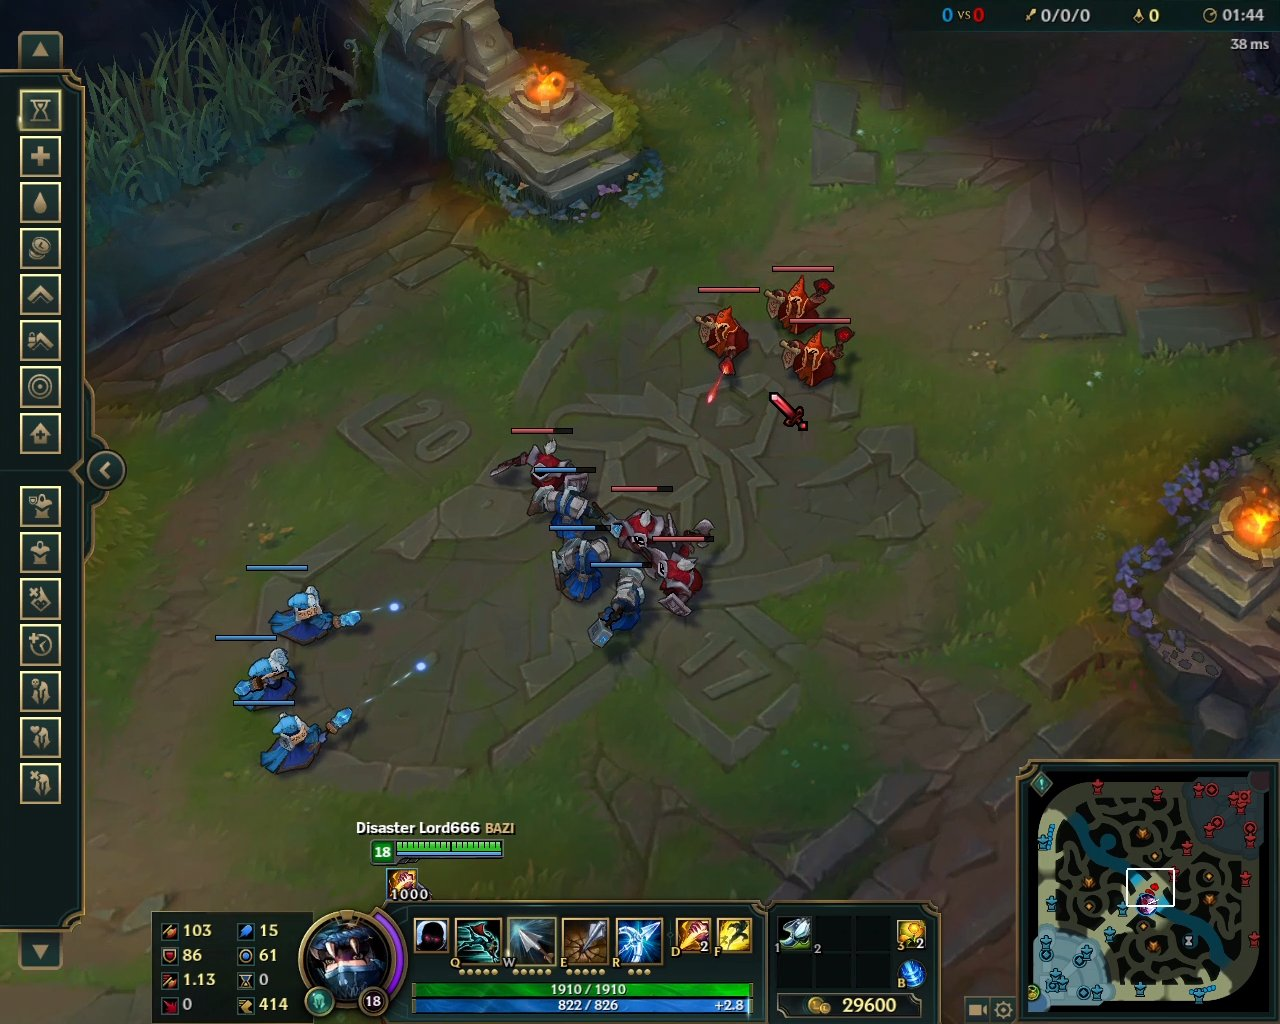EnemyMinion: (645, 517, 722, 619), (606, 486, 686, 577), (692, 286, 762, 385), (488, 425, 574, 494), (776, 317, 857, 390), (763, 265, 840, 336)
